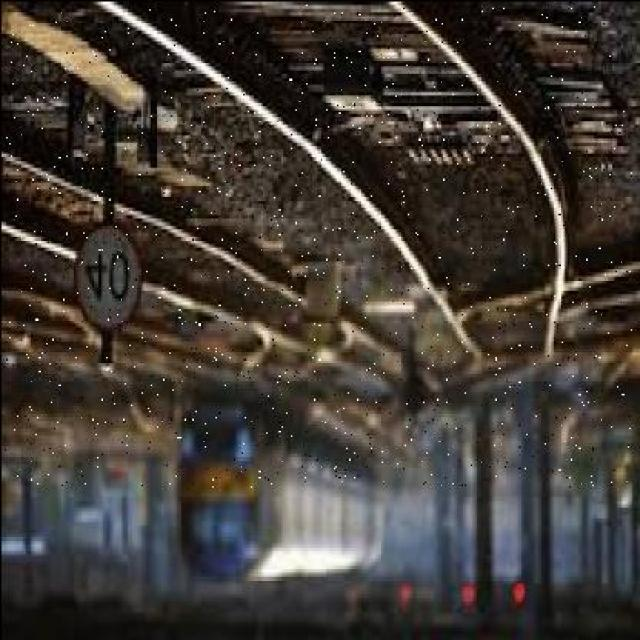rail: (1, 3, 631, 486)
